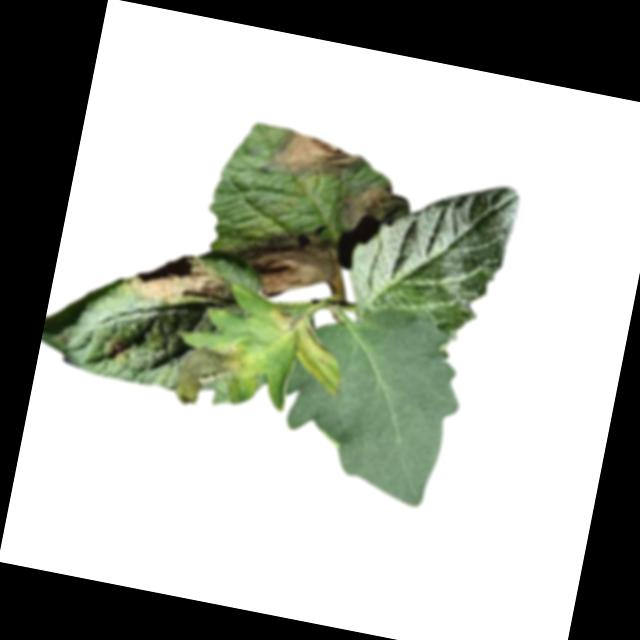Late_blight: (227, 219, 348, 310), (124, 239, 246, 318), (171, 331, 261, 416), (259, 125, 367, 191), (259, 304, 338, 377), (333, 177, 402, 237), (107, 338, 132, 363)
